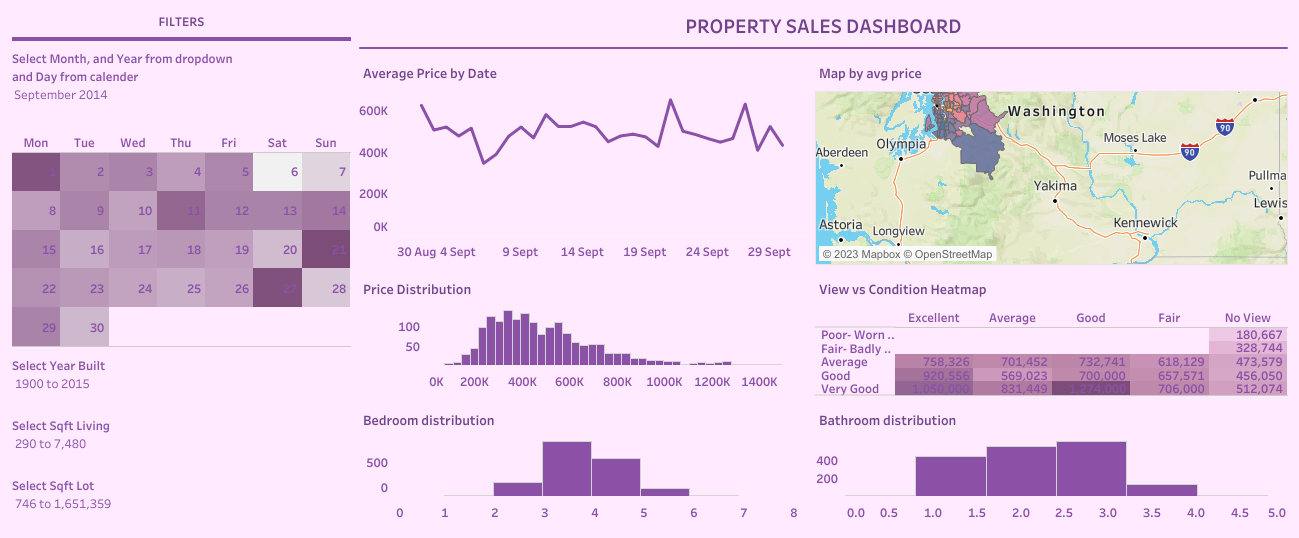

The page's visual inventory and layout, read from the dashboard file:
{"tool":"tableau","page":{"name":"House sales Dashboard","canvas":[1000,1000],"units":"permille","ordinal":0},"visuals":[{"type":"text","box":[6.9,13.7,266.6,42.8]},{"type":"text","box":[273.6,13.7,719.5,58.2]},{"type":"blank","box":[6.9,56.5,266.6,17.1]},{"type":"blank","box":[273.6,71.9,719.5,17.1]},{"type":"filter","title":"calender","param":"[federated.1ruky5b1k1awg717eqibo1wlmyyj].[my:date:ok]","box":[6.9,73.6,266.6,118.2]},{"type":"worksheet","title":"Average Price by Date","mark":"Automatic","rows":["price"],"cols":["date"],"box":[273.6,89,349.8,410.9]},{"type":"worksheet","title":"Map by avg price","mark":"Automatic","box":[623.4,89,369.7,410.9]},{"type":"blank","box":[6.9,191.8,266.6,17.1]},{"type":"worksheet","title":"calender","mark":"Square","rows":["date"],"cols":["date"],"box":[6.9,208.9,266.6,469.2]},{"type":"worksheet","title":"Price Distribution","mark":"Automatic","rows":["price"],"cols":["Price (bin)"],"box":[273.6,500,349.8,243.2]},{"type":"worksheet","title":"Heatmap","mark":"Square","rows":["condition"],"cols":["view"],"box":[623.4,500,369.7,243.2]},{"type":"filter","title":"calender","param":"[federated.1ruky5b1k1awg717eqibo1wlmyyj].[none:yr_built:qk]","box":[6.9,678.1,266.6,102.7]},{"type":"worksheet","title":"Bedroom distribution","mark":"Automatic","rows":["bedrooms"],"cols":["Bedrooms (bin)"],"box":[273.6,743.1,349.8,243.2]},{"type":"worksheet","title":"Bathroom distribution","mark":"Bar","rows":["bathrooms"],"cols":["Bathrooms (bin)"],"box":[623.4,743.1,369.7,243.2]},{"type":"filter","title":"calender","param":"[federated.1ruky5b1k1awg717eqibo1wlmyyj].[none:sqft_living:qk]","box":[6.9,780.8,266.6,102.7]},{"type":"filter","title":"calender","param":"[federated.1ruky5b1k1awg717eqibo1wlmyyj].[none:sqft_lot:qk]","box":[6.9,883.5,266.6,102.7]}]}

Visuals, with their boxes on the dashboard's canvas, which has no fixed pixel size, in thousandths of its width and height (x1, y1, x2, y2). These are canvas units, not pixel positions in the 1299x538 screenshot, which may show the page scaled, cropped or inside an application window:
text: bbox(7, 14, 274, 56)
text: bbox(274, 14, 993, 72)
blank: bbox(7, 56, 274, 74)
blank: bbox(274, 72, 993, 89)
"calender" filter: bbox(7, 74, 274, 192)
"Average Price by Date" worksheet: bbox(274, 89, 623, 500)
"Map by avg price" worksheet: bbox(623, 89, 993, 500)
blank: bbox(7, 192, 274, 209)
"calender" worksheet (Square marks): bbox(7, 209, 274, 678)
"Price Distribution" worksheet: bbox(274, 500, 623, 743)
"Heatmap" worksheet (Square marks): bbox(623, 500, 993, 743)
"calender" filter: bbox(7, 678, 274, 781)
"Bedroom distribution" worksheet: bbox(274, 743, 623, 986)
"Bathroom distribution" worksheet (Bar marks): bbox(623, 743, 993, 986)
"calender" filter: bbox(7, 781, 274, 884)
"calender" filter: bbox(7, 884, 274, 986)
